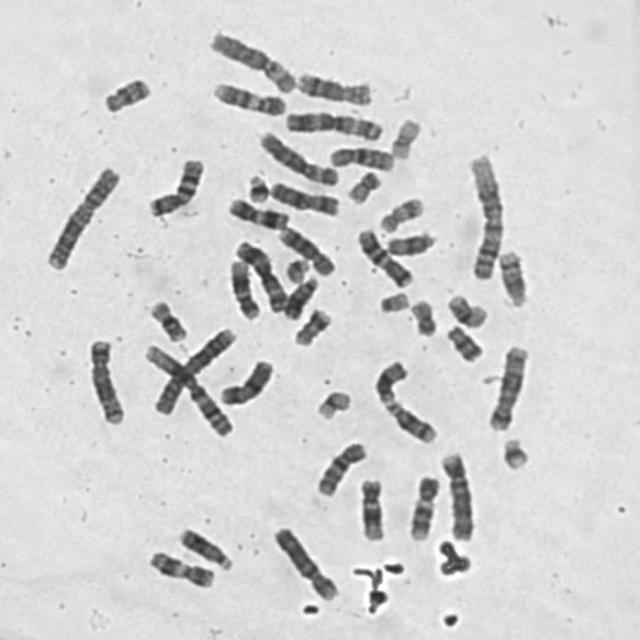A1: (139, 342, 236, 440), (465, 151, 507, 284)
A2: (44, 162, 126, 274), (149, 324, 241, 421)
A3: (233, 239, 291, 315), (282, 110, 386, 146)
B4: (270, 522, 343, 604), (437, 450, 478, 544)
B5: (485, 342, 538, 436), (86, 334, 128, 426)
C10: (314, 440, 369, 500), (328, 146, 398, 174)
C11: (148, 548, 216, 592), (225, 197, 291, 232)
C12: (226, 260, 262, 322), (357, 477, 387, 543)
C6: (207, 29, 300, 97), (256, 130, 341, 188)
C7: (356, 225, 416, 291), (147, 152, 206, 218)
C8: (294, 69, 376, 108), (276, 227, 337, 278)
C9: (212, 80, 288, 118), (406, 475, 442, 543)
D13: (175, 525, 235, 572), (282, 276, 321, 322)
D14: (381, 402, 441, 445), (498, 248, 529, 308)
D15: (372, 358, 412, 404), (386, 232, 437, 258)
E16: (147, 298, 191, 344), (446, 291, 491, 331)
E17: (378, 195, 424, 234), (294, 307, 333, 347)
E18: (99, 74, 153, 116), (442, 324, 486, 364)
F19: (312, 385, 356, 426), (390, 115, 426, 162)
F20: (344, 168, 384, 206), (409, 297, 439, 340)
G21: (495, 436, 532, 472), (244, 172, 271, 206)
G22: (376, 290, 412, 316), (285, 257, 313, 287)
X: (217, 355, 277, 409), (268, 179, 343, 219)
